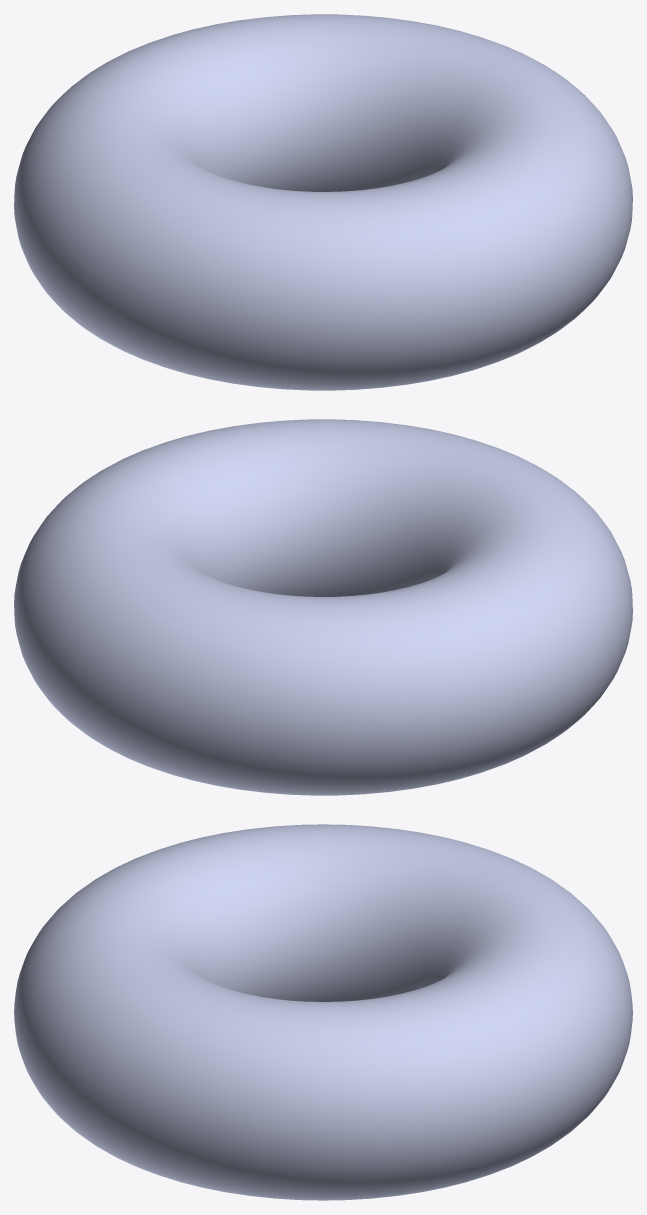
Rendered from 4cdb69f1-bf91-4c03-8446-72685a38417f.fbx.
3 views of the same model, one above another, from view 1: azimuth 30°, elevation 25°; view 2: azimuth 150°, elevation 25°; view 3: azimuth 270°, elevation 25° (orthographic).
Visible parts, largest first — view 1: Default; view 2: Default; view 3: Default.
Part boxes in pixels (x1,y1,x2,y2): Default: [14, 14, 632, 390]; Default: [14, 419, 632, 795]; Default: [14, 824, 632, 1200].
Size of the model in its own units: 224 by 72.06 by 224.
